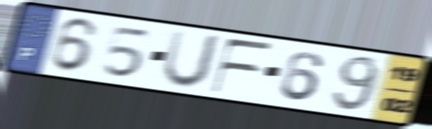5: (100, 24, 154, 79)
6: (49, 15, 99, 74), (280, 50, 326, 102)
9: (329, 54, 382, 113)
F: (209, 37, 276, 95)
U: (158, 27, 225, 91)
